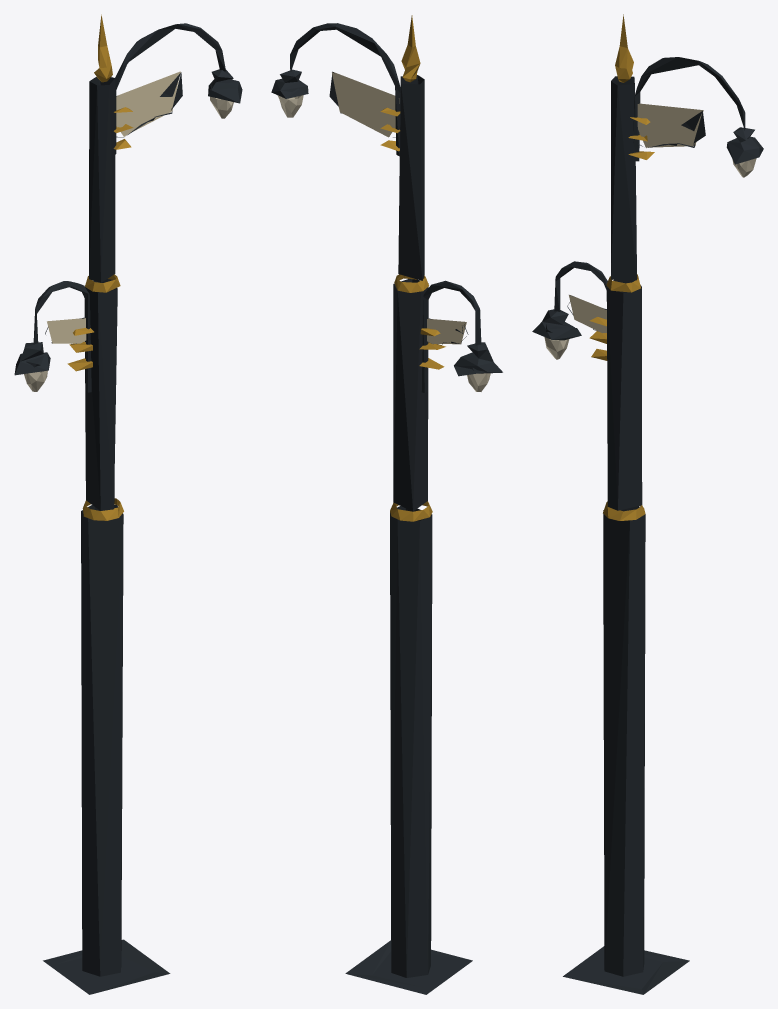
The model's file is deco_streetlight.glb.
3 views of the same model, side by side, from view 1: azimuth 30°, elevation 25°; view 2: azimuth 150°, elevation 25°; view 3: azimuth 330°, elevation 25° (orthographic).
Size of the model in its own units: 1.12 by 4.47 by 0.3982.
